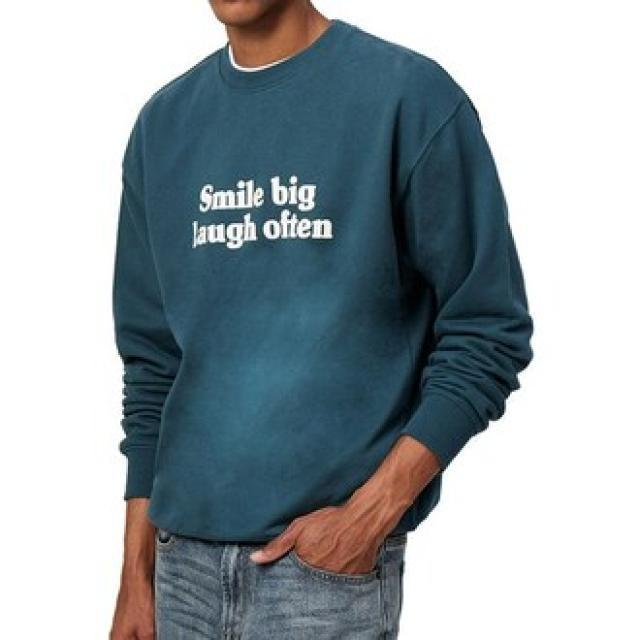sweater: (107, 16, 541, 551)
trousers: (146, 528, 424, 640)
